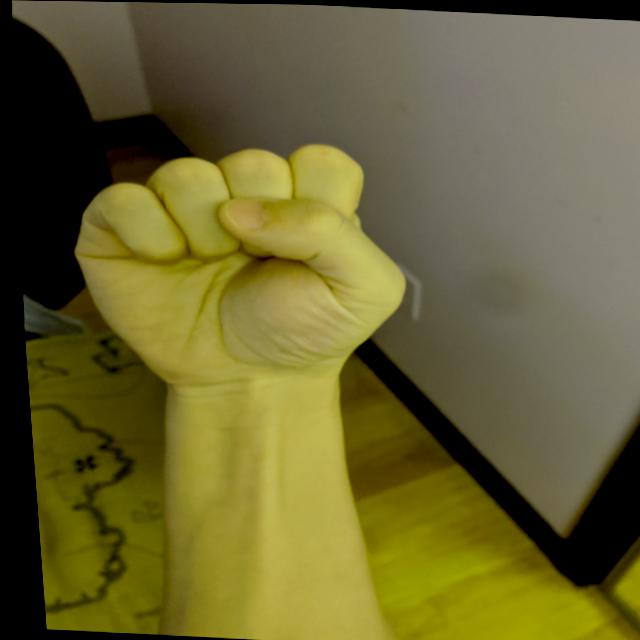S: (47, 124, 422, 400)
